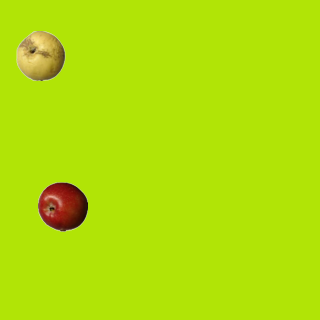Apple Braeburn: (37, 181, 87, 231)
Apple Golden 1: (15, 30, 65, 80)
